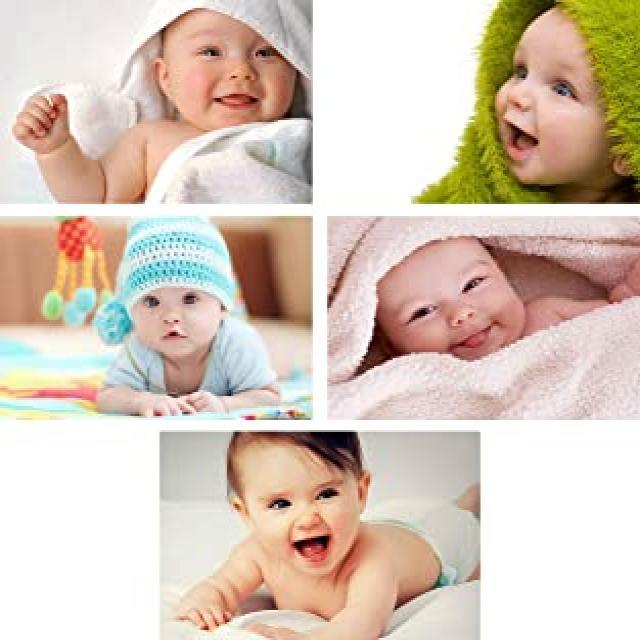non-dog: (6, 4, 312, 205), (168, 426, 448, 640), (93, 215, 284, 420), (369, 238, 629, 374), (490, 3, 638, 207)
